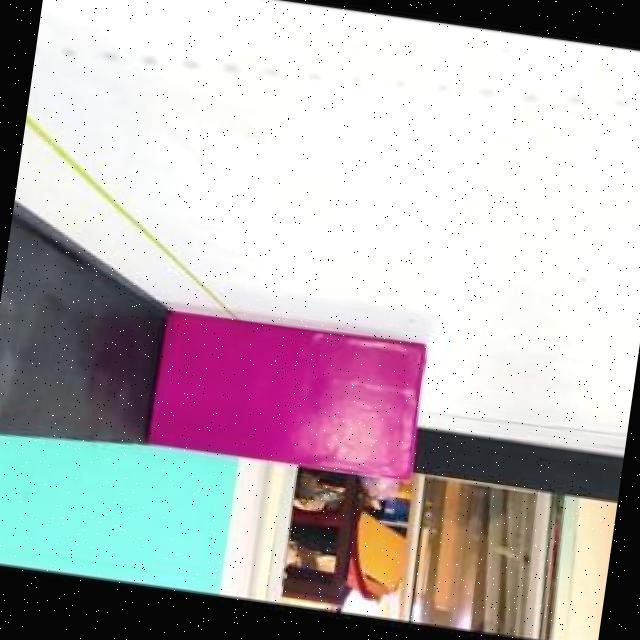xparking: (151, 306, 426, 478)
